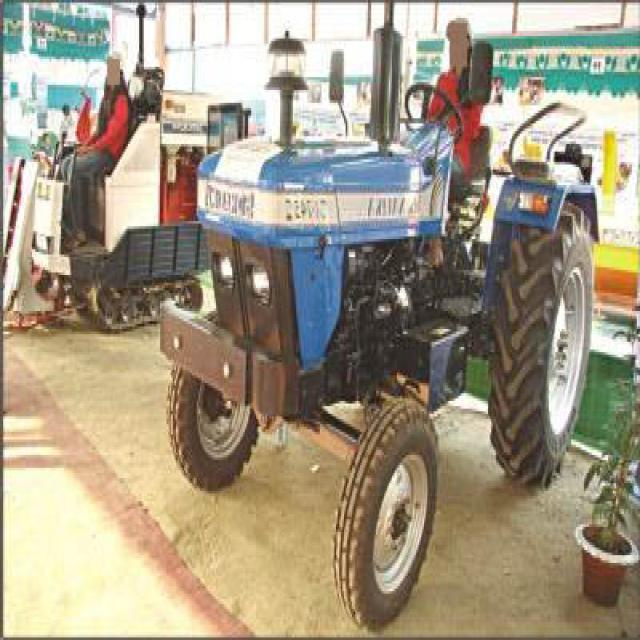Tratores - v5 YOLO V8L 2024-11-13: (152, 4, 607, 620)
